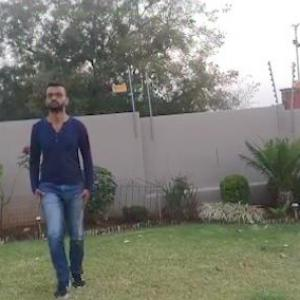follow: (27, 72, 109, 298)
